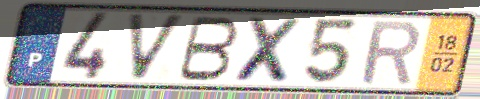4: (59, 9, 111, 83)
5: (303, 16, 362, 88)
B: (174, 14, 243, 83)
R: (358, 18, 422, 87)
V: (125, 11, 189, 84)
X: (231, 14, 308, 86)
